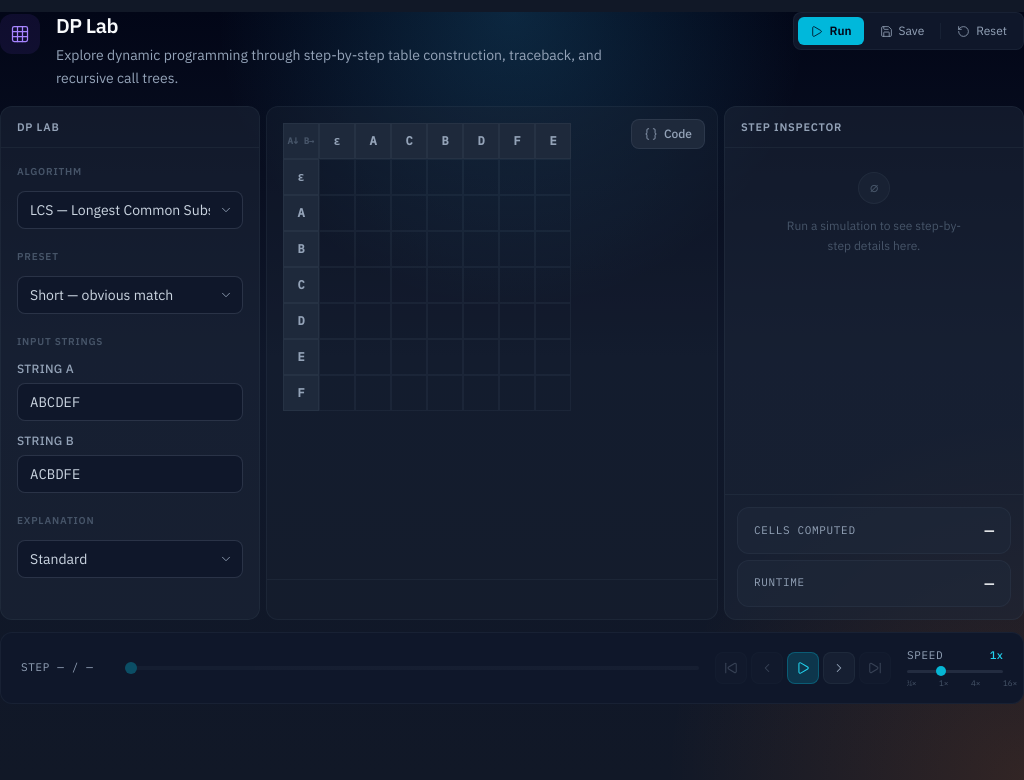
DpLabPage — coin change preset integration › fetches coin change presets when algorithm switches from lcs to coin_change
The image size is (1024, 780).
Expected: the field named "String A" holds "ABCDEF", [17,383,243,421]
Select "Coin Change (Min Coins)" in the dropdown named "Algorithm". click: (130, 210)
box: [17,191,243,229]
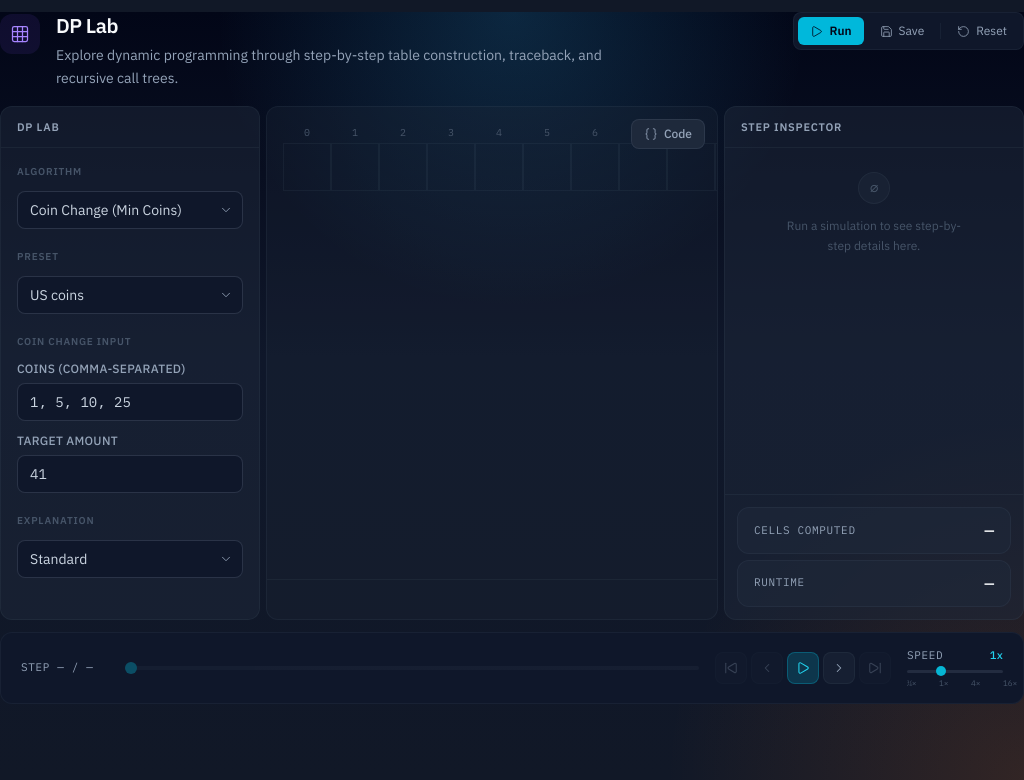
Now the field named "Coins" holds "1, 5, 10, 25", box [17,383,243,421]
Now the number field named "Target" holds "41", box [17,455,243,493]
